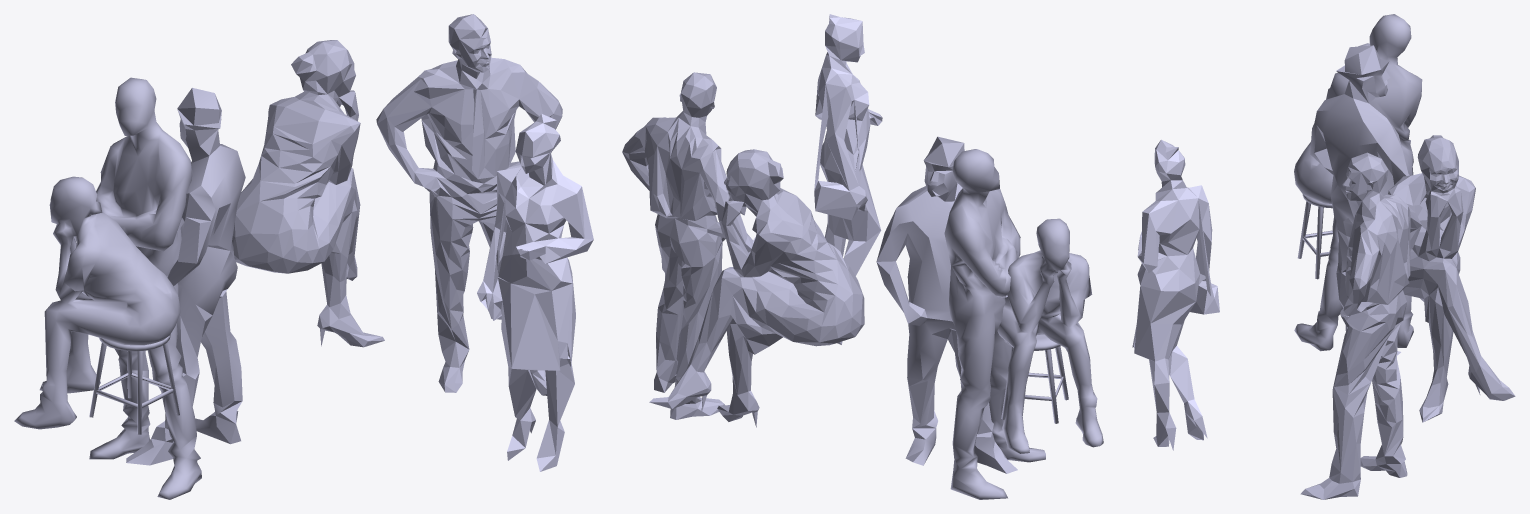
File: Humans.glb
The picture shows the model from 3 angles, left to right: view 1: azimuth 30°, elevation 25°; view 2: azimuth 150°, elevation 25°; view 3: azimuth 270°, elevation 25°; orthographic projection. The views are drawn at different scales.
Parts seen in each view (by area): view 1: people006, people004, people002, people005, people001, people003; view 2: people004, people006, people001, people003, people005, people002; view 3: people006, people002, people004, people003, people001, people005.
Part boxes in pixels (bbox=[...]): people006: bbox=[376, 14, 562, 395]; people004: bbox=[232, 40, 384, 347]; people002: bbox=[477, 113, 593, 471]; people005: bbox=[14, 176, 180, 434]; people001: bbox=[89, 77, 201, 499]; people003: bbox=[126, 87, 245, 465]; people004: bbox=[649, 149, 864, 427]; people006: bbox=[622, 72, 729, 419]; people001: bbox=[944, 149, 1045, 499]; people003: bbox=[876, 136, 1017, 473]; people005: bbox=[997, 218, 1103, 453]; people002: bbox=[814, 14, 882, 344]; people006: bbox=[1300, 152, 1421, 499]; people002: bbox=[1132, 139, 1219, 450]; people004: bbox=[1388, 135, 1515, 422]; people003: bbox=[1310, 45, 1409, 355]; people001: bbox=[1294, 14, 1422, 351]; people005: bbox=[1294, 43, 1369, 279].
Bounding box in the file's own units: 2.5 × 1.66 × 1.77.
